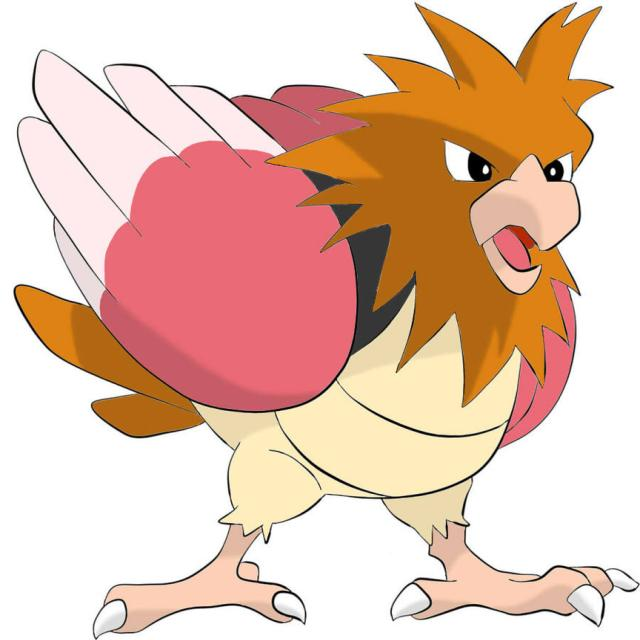Spearow: (48, 61, 591, 616)
